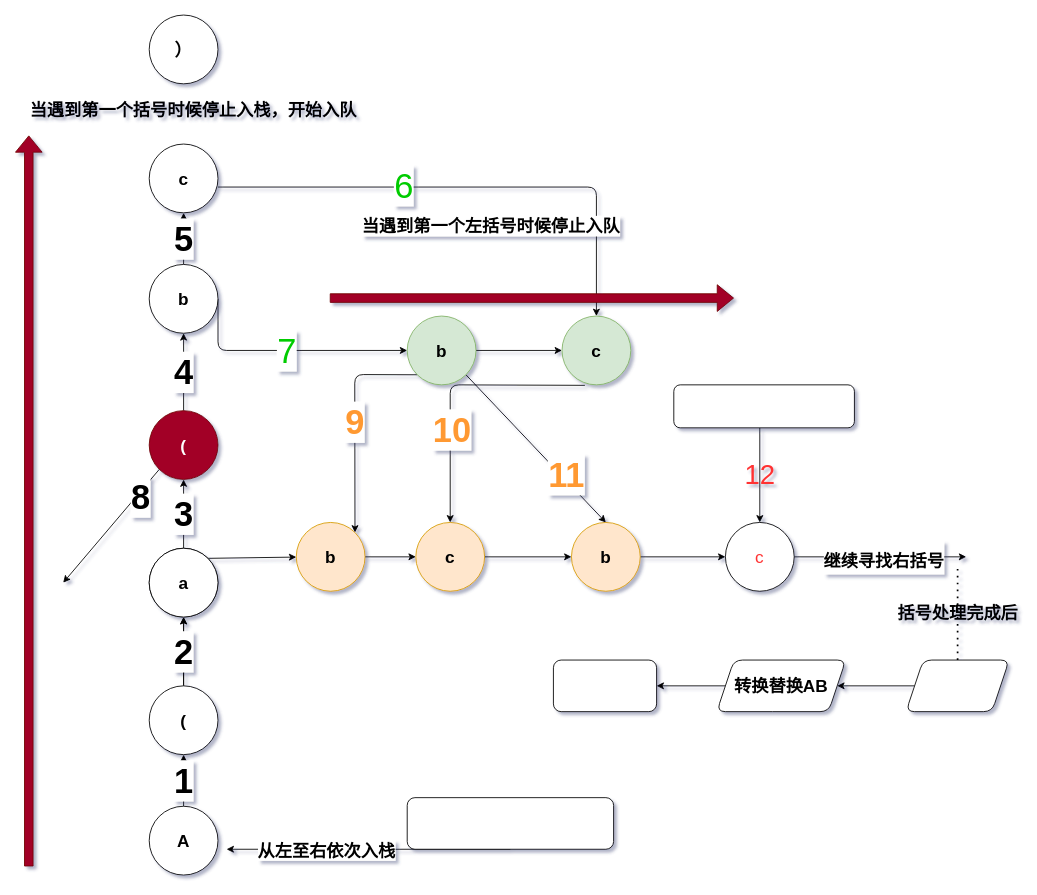
This 1037x895 diagram has some shape labels left out. The box of each missing label's shape, as (x1, y1, x2, y2) in pixels:
A(a(bc)c)B: (406, 797, 614, 849)
c)B: (673, 384, 854, 428)
反转栈: (905, 659, 1009, 712)
打印输出: (553, 659, 657, 712)
